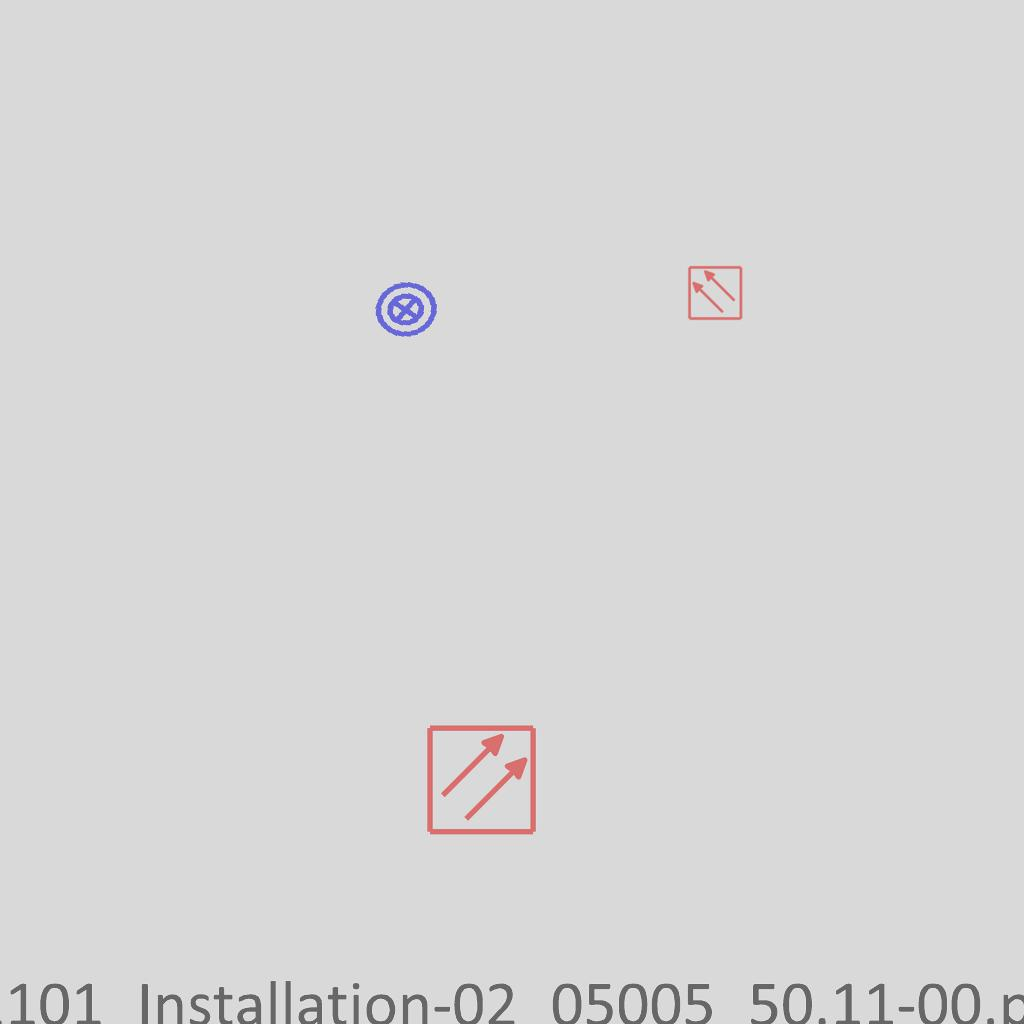RMO_Rauchmelder_optischer: (425, 723, 538, 836), (687, 265, 743, 321)
Taster_beleuchtet: (368, 272, 444, 348)
